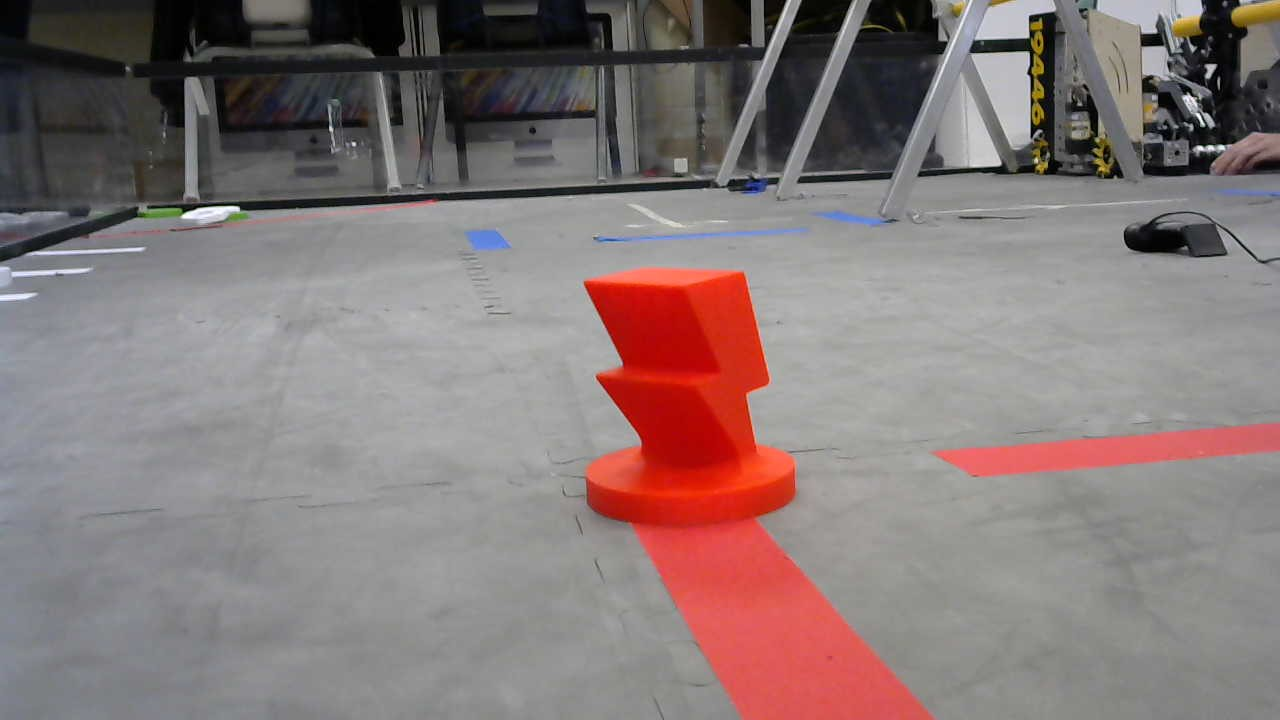redobject: (578, 265, 797, 528)
